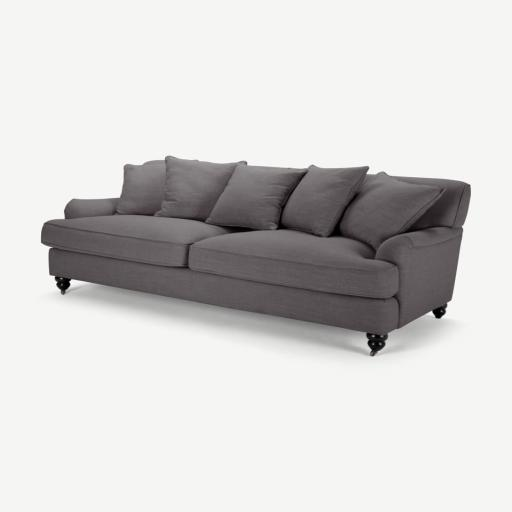back_cushion: (155, 156, 446, 249)
base: (49, 249, 398, 332)
left_arm: (375, 227, 462, 328)
legs: (367, 333, 388, 356), (54, 276, 71, 294), (437, 308, 445, 314)
right_arm: (64, 198, 119, 218)
seat_cushion: (43, 216, 397, 296)
two-seater: (0, 0, 511, 512)
